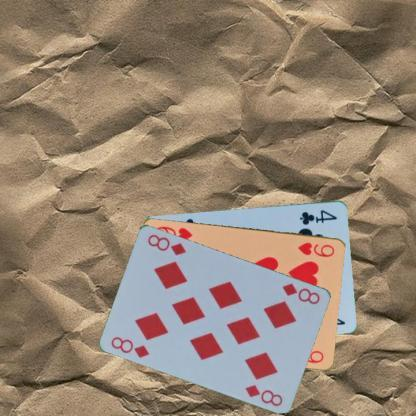4c: (297, 207, 339, 226)
8d: (280, 281, 322, 306), (108, 334, 150, 359)
9h: (295, 239, 336, 258)
